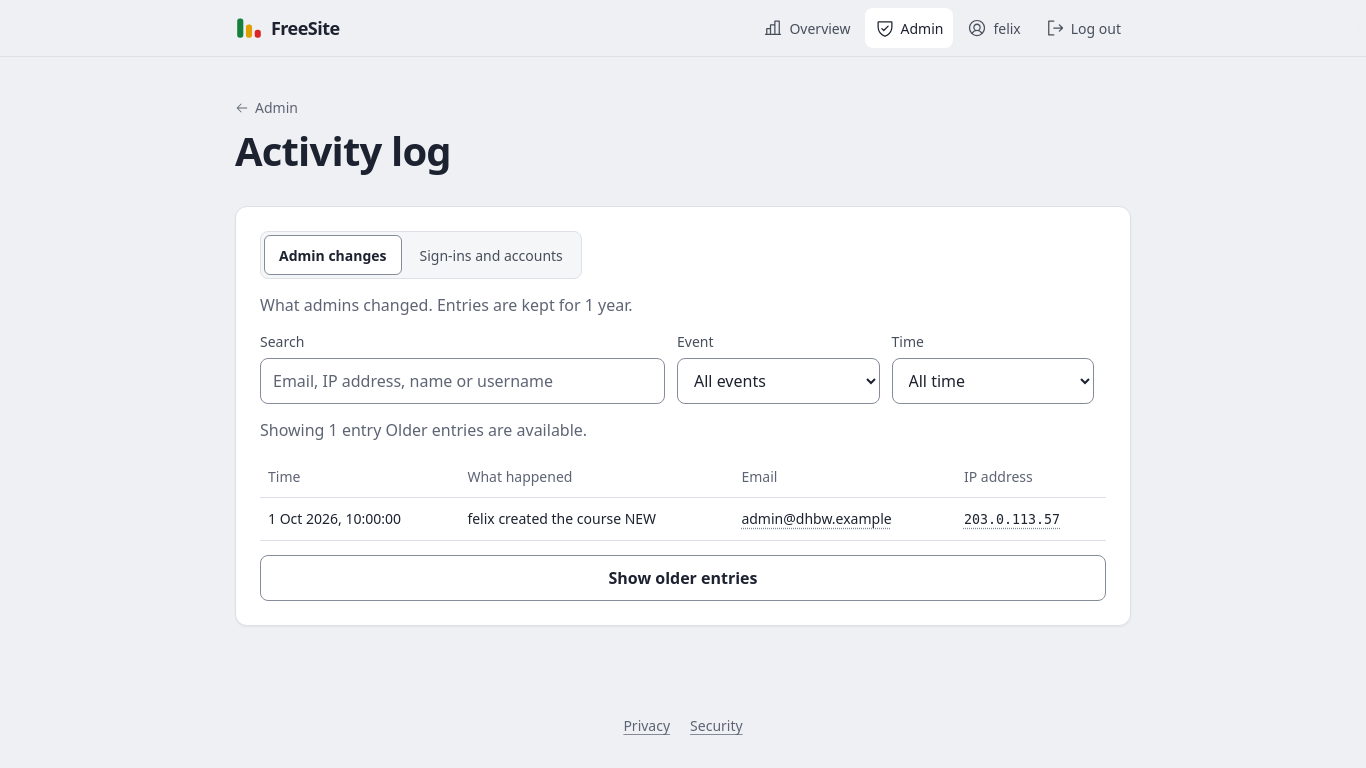
Test: ActivityPage › loads older entries with the cursor of the previous page
The image size is (1366, 768).
Expected: the column heading "felix created the course NEW" is shown, [459, 498, 733, 540]
Click the button "Show older entries": click(683, 578) [260, 555, 1106, 601]
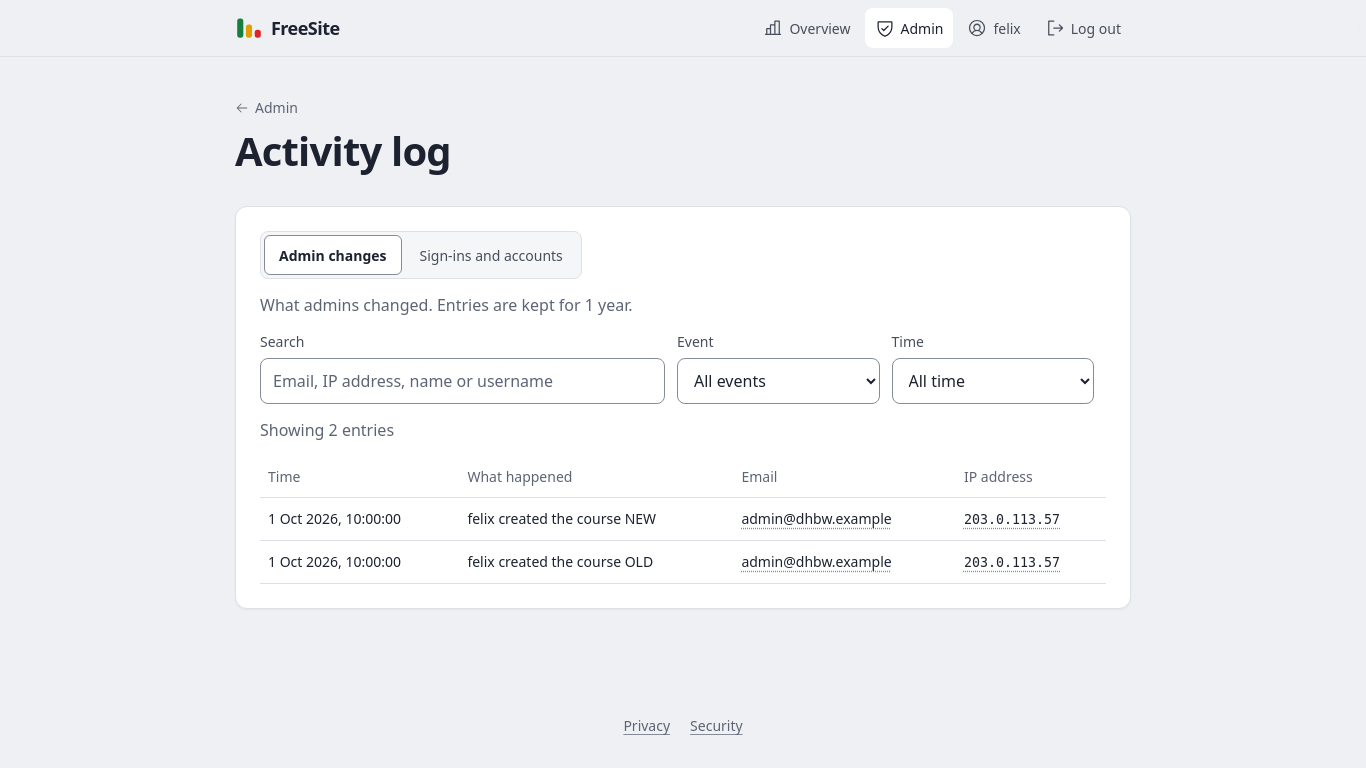
Expected: the column heading "felix created the course NEW" is shown, [459, 498, 733, 540]
Now the column heading "felix created the course OLD" is shown, box [459, 540, 733, 583]
Now the button "Show older entries" is gone
